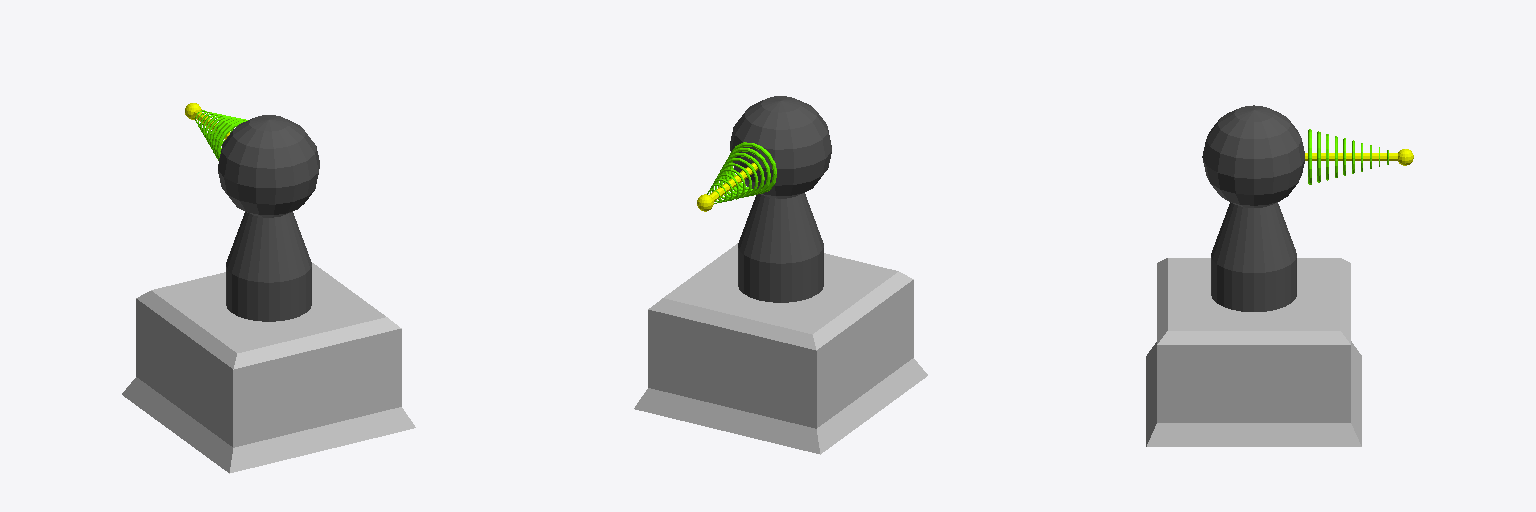
Rendered from LaserTower.obj.
The picture shows the model from 3 angles: view 1: azimuth 30°, elevation 25°; view 2: azimuth 150°, elevation 25°; view 3: azimuth 270°, elevation 25°; orthographic projection.
Parts seen in each view (by area): view 1: Sockel, RotationPoint, Stand; view 2: Sockel, Stand, RotationPoint; view 3: Sockel, RotationPoint, Stand, Muzzle.
Part boxes in pixels (x1,y1,x2,y2): Sockel: (122,263,415,473); RotationPoint: (218,115,319,217); Stand: (226,212,311,321); Sockel: (634,243,927,454); Stand: (738,193,823,302); RotationPoint: (730,96,831,198); Sockel: (1146,258,1361,446); RotationPoint: (1202,105,1304,207); Stand: (1211,202,1296,311); Muzzle: (1305,153,1397,160).
Bounding box in the file's own units: 100 × 149 × 124.